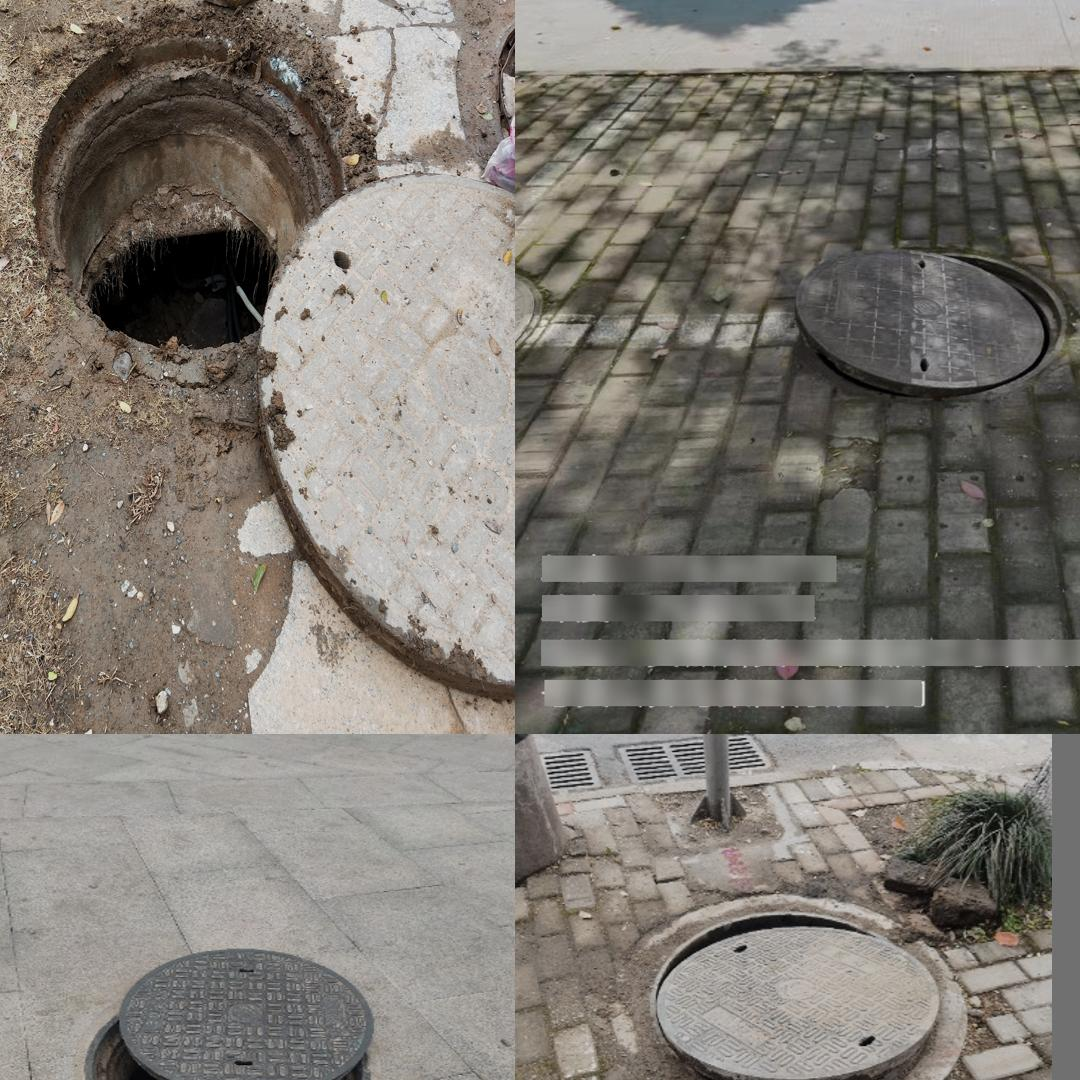uncovered: (36, 15, 509, 701), (623, 894, 966, 1080), (793, 246, 1067, 399), (82, 951, 370, 1080)
